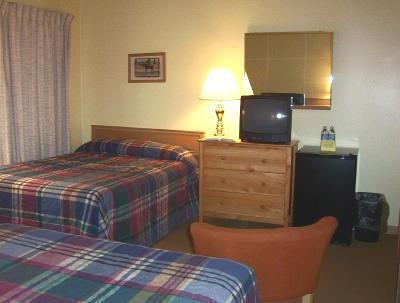Bote de Basura: (354, 196, 387, 243)
Cama: (9, 224, 256, 299), (0, 134, 184, 215)
Electrodomestico: (297, 153, 355, 216)
